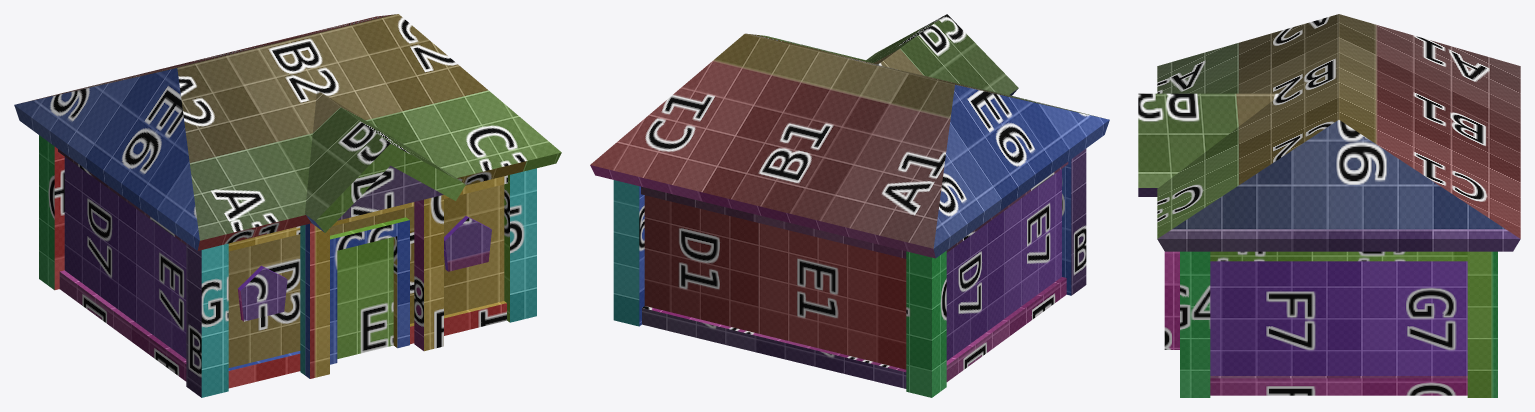
Rendered from BasicHouse.gltf.
The picture shows the model from 3 angles, left to right: view 1: azimuth 30°, elevation 25°; view 2: azimuth 150°, elevation 25°; view 3: azimuth 270°, elevation 25°; orthographic projection. The views are drawn at different scales.
Parts seen in each view (by area): view 1: HouseBase; view 2: HouseBase; view 3: HouseBase.
Part boxes in pixels (x1=…): HouseBase: x1=14, y1=14, x2=561, y2=397; HouseBase: x1=590, y1=14, x2=1109, y2=397; HouseBase: x1=1138, y1=14, x2=1520, y2=397.
Size of the model in its own units: 6.48 by 4.39 by 6.06.
Materials: 1 (1 with a texture image).
